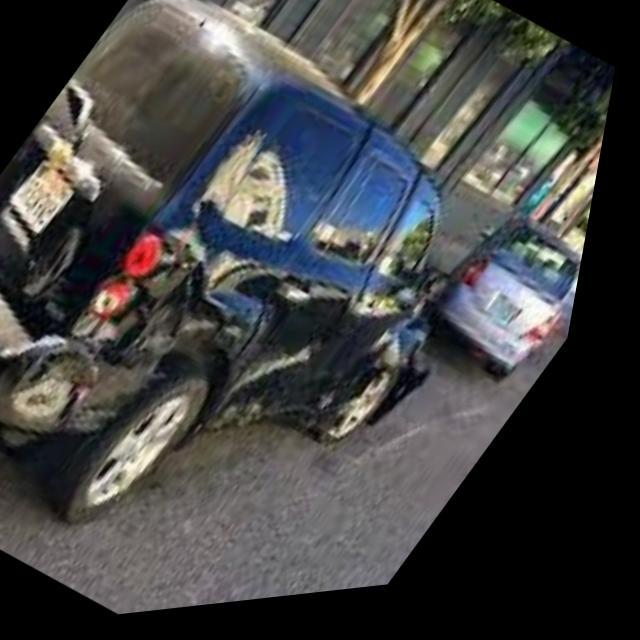dent: (239, 309, 364, 403)
lamp broken: (101, 291, 133, 323)
no part: (0, 264, 247, 444)
rub: (23, 232, 98, 304)
